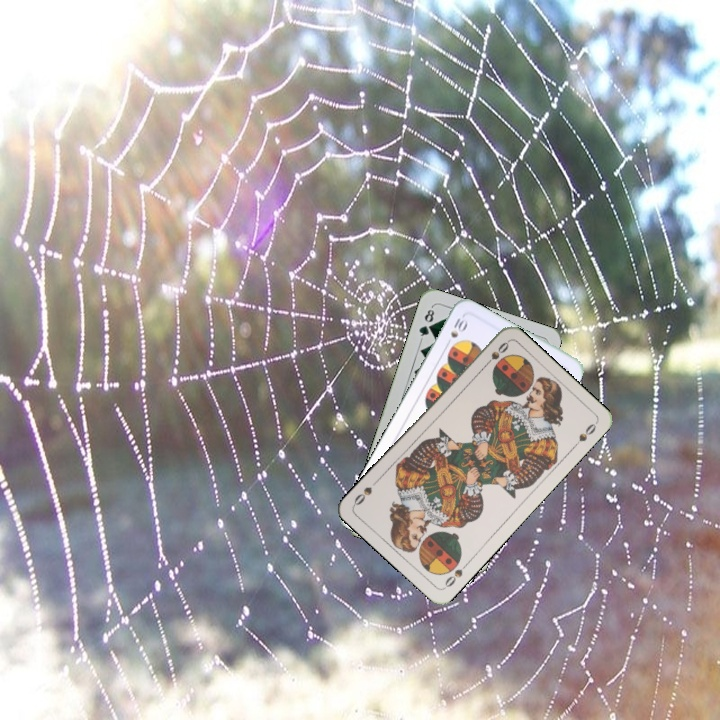G8: (415, 303, 437, 343)
S10: (442, 311, 470, 349)
SO: (479, 338, 511, 371), (440, 558, 471, 591)
